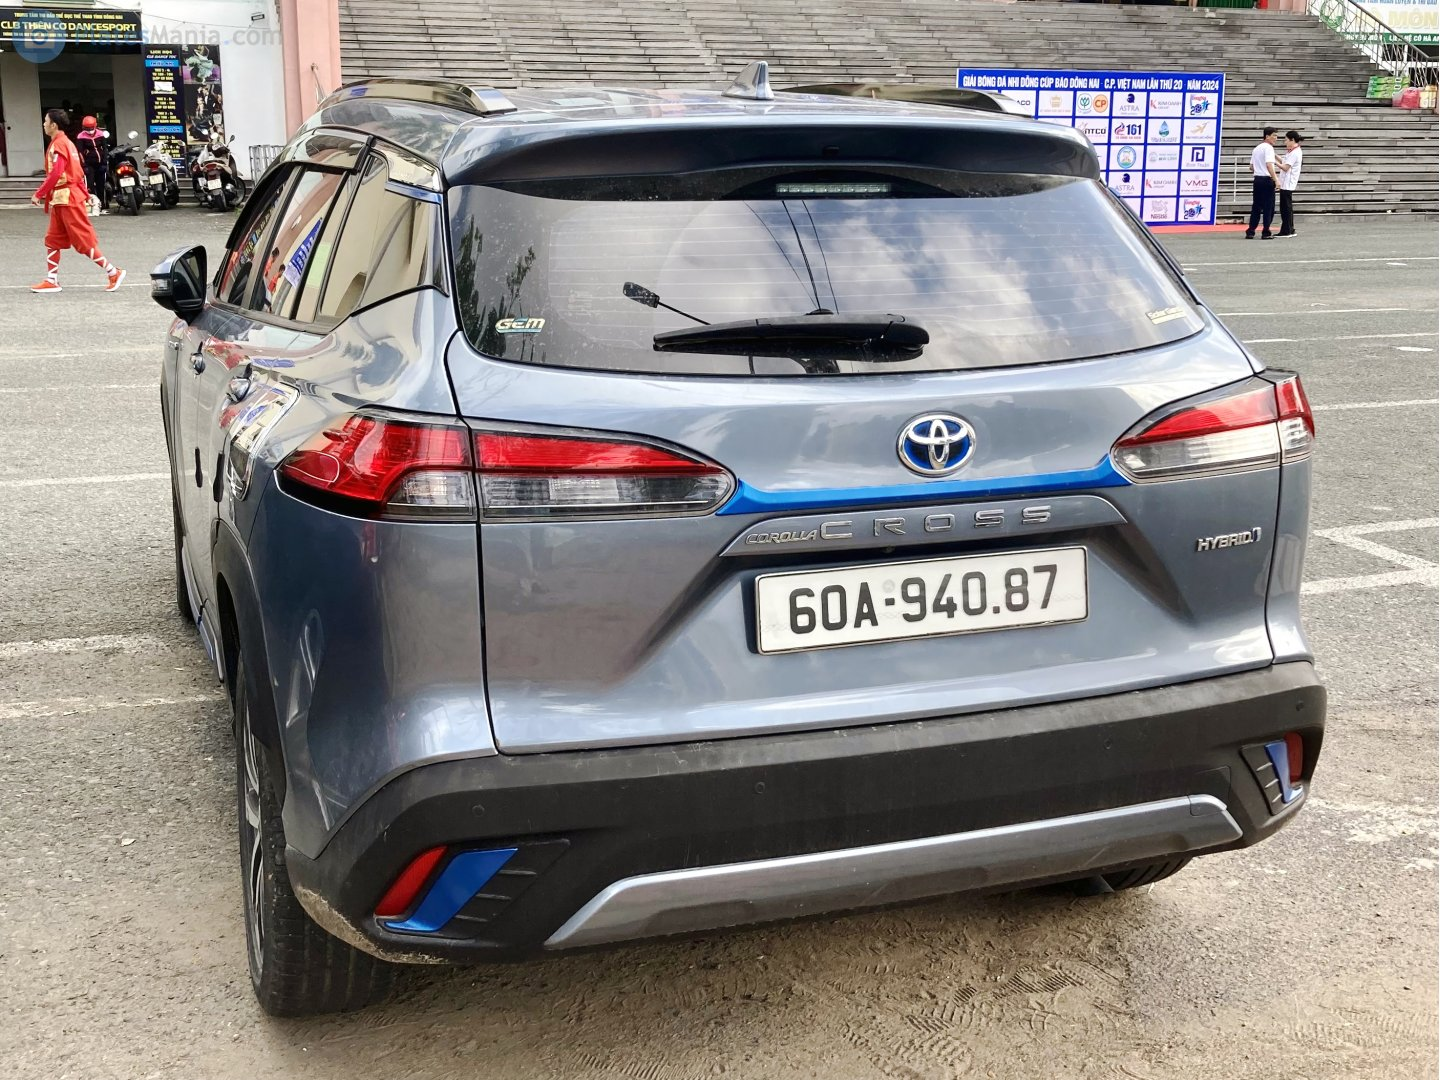bien_so: (757, 546, 1089, 654)
